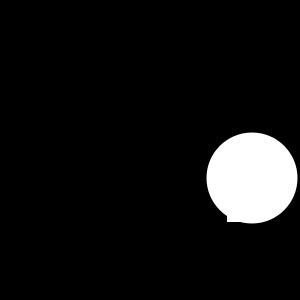circle: (227, 186, 263, 222)
rectangle: (206, 132, 298, 224)
